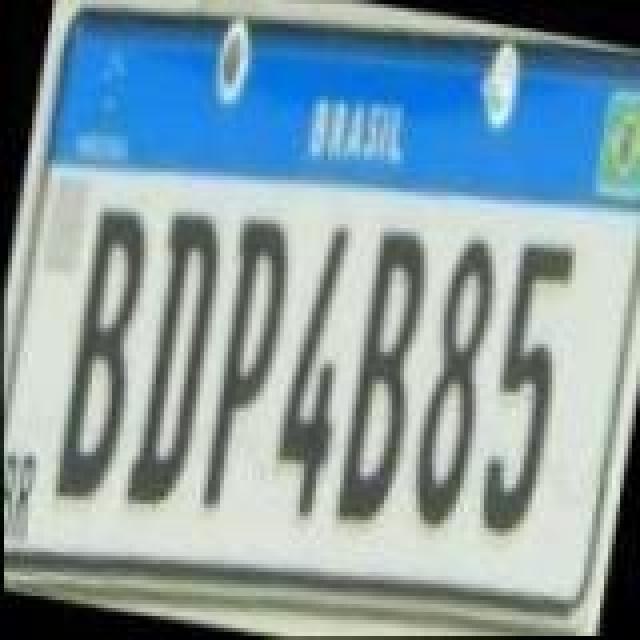4: (260, 218, 364, 522)
5: (466, 232, 574, 540)
8: (398, 228, 506, 536)
B: (44, 196, 156, 508), (330, 222, 438, 530)
D: (116, 204, 228, 512)
P: (186, 208, 294, 520)
